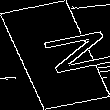N_W: (10, 29, 100, 81)
